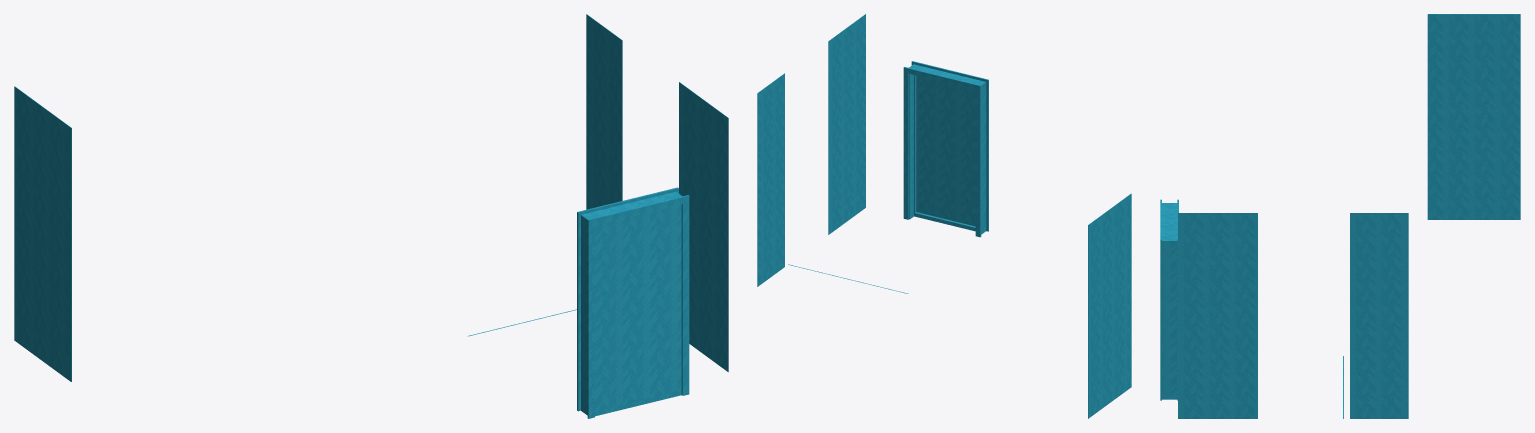
The model's file is ADSK_33.obj.
3 views of the same model, side by side, from view 1: azimuth 30°, elevation 25°; view 2: azimuth 150°, elevation 25°; view 3: azimuth 270°, elevation 25° (orthographic). The views are drawn at different scales.
Size of the model in its own units: 5.59 by 2.72 by 4.28.
Materials: 1 (1 with a texture image).
